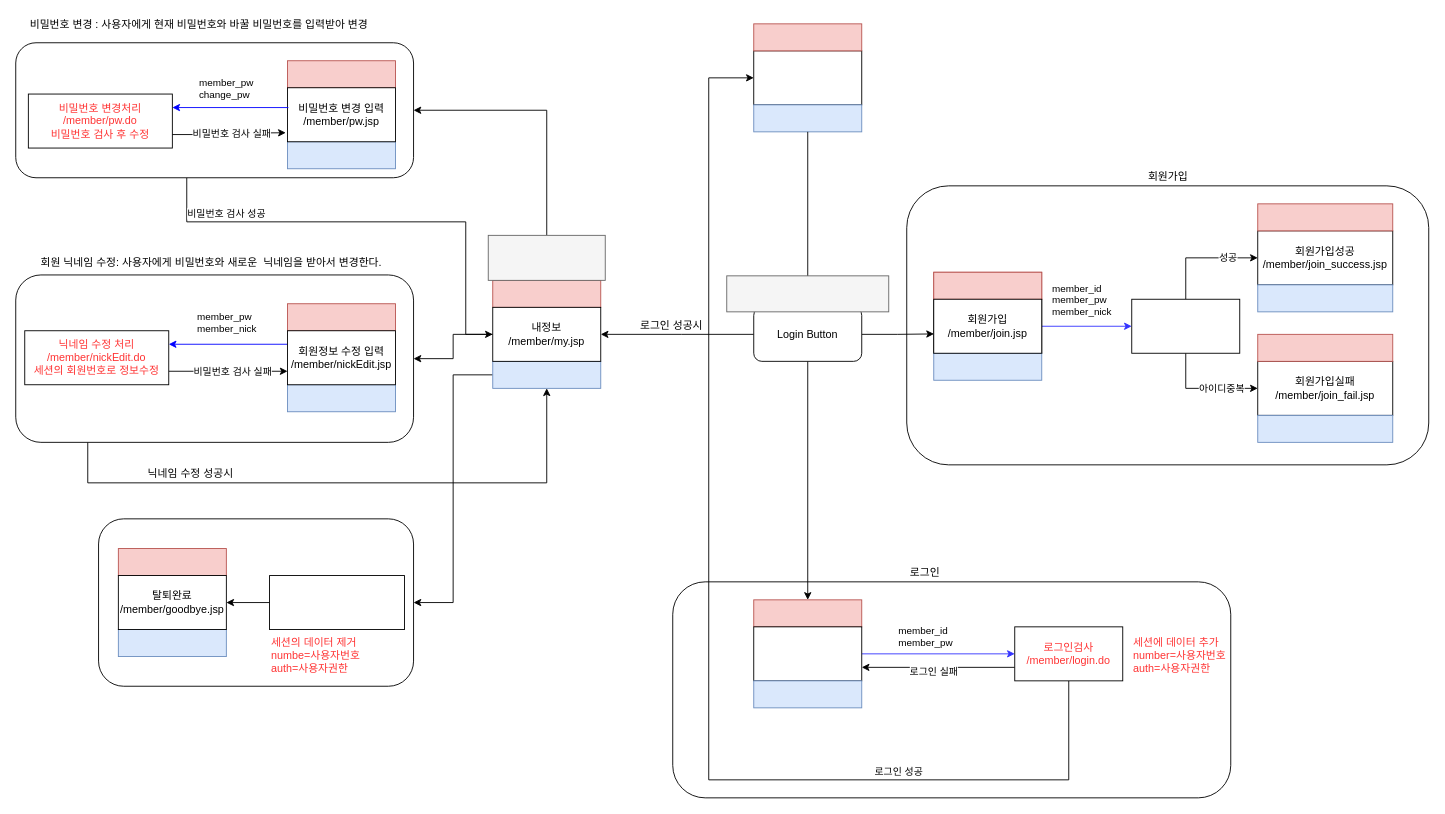
Image size: 1445x814. Some labels were removed from this diagram. The shapes that lost their labels are listed below. From the top down, each one's centre as x and y in pixels, then its label:
pixel 807 77: 메인페이지 /index.jsp
pixel 546 257: 비밀번호 수정 (button) 닉네임 수정 (button) 회원탈퇴 (buton)
pixel 807 293: 로그인 성공시 닉네임 버튼에 노출 "{nickname}님 반갑습니다"
pixel 1185 325: 회원가입처리 /member/join.do
pixel 337 602: 회원탈퇴 /member/delete.do 회원정보삭제+로그아웃
pixel 807 653: 로그인입력 /member/login.jsp
